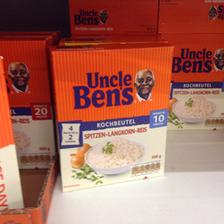Reis: (46, 42, 174, 192), (0, 34, 52, 169), (162, 33, 222, 130)
